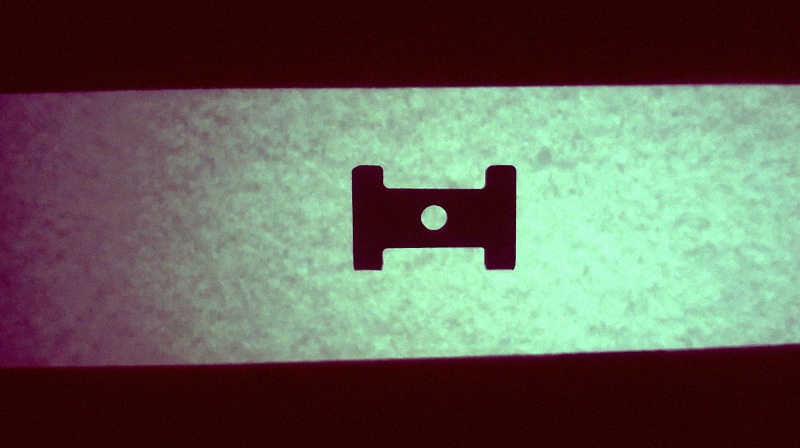O002: (348, 162, 519, 273)
